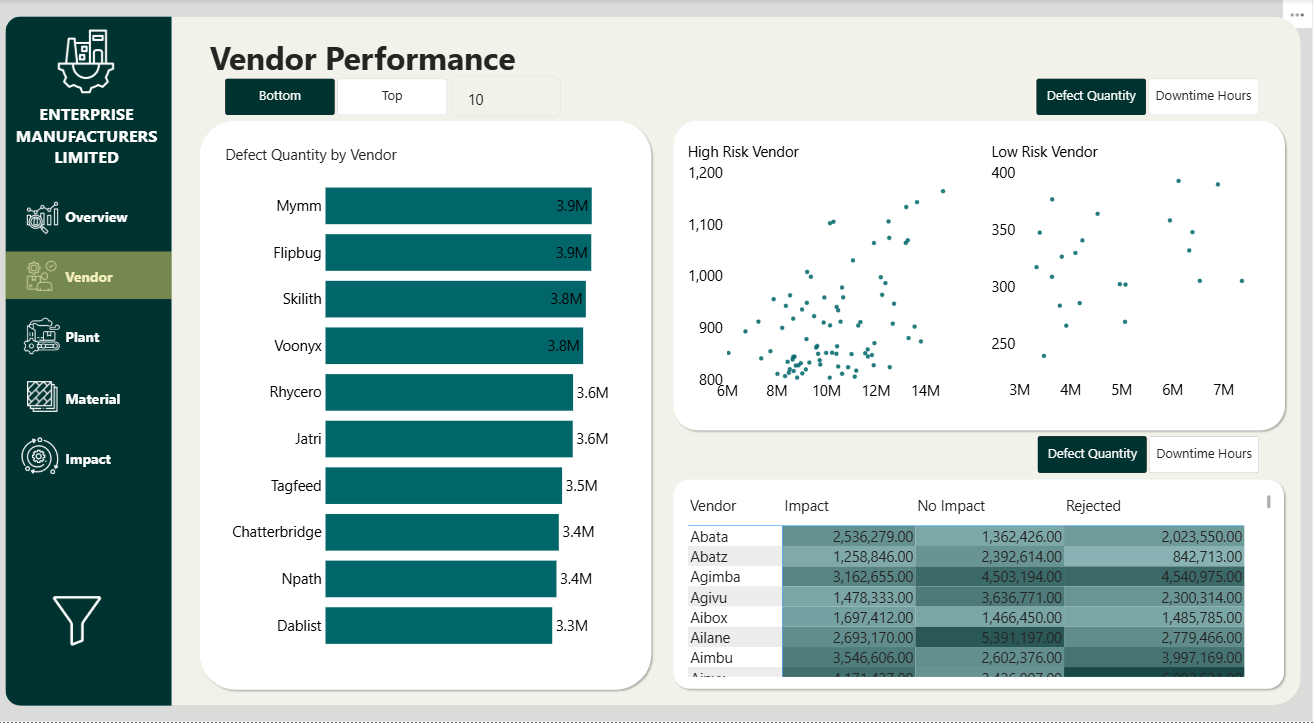

The dashboard page shown, as its layout file describes it:
{"tool":"powerbi","page":{"name":"Vendor","canvas":[3000,1650],"ordinal":2},"visuals":[{"type":"shape","box":[0,0,3000,1650.3],"z":0},{"type":"image","box":[54.2,456.1,94.1,85.5],"z":0,"group":"g1"},{"type":"textbox","box":[148.2,607.9,156.8,82.7],"z":0,"group":"g2"},{"type":"textbox","box":[148.2,745.5,156.8,82.7],"z":0,"group":"g3"},{"type":"textbox","box":[148.3,883,156.8,82.7],"z":0,"group":"g4"},{"type":"textbox","box":[148.3,1020.6,156.8,82.7],"z":0,"group":"g5"},{"type":"shape","box":[30.1,39.9,2939.9,1570.2],"z":1000},{"type":"textbox","box":[148.3,470.4,156.8,82.7],"z":1000,"group":"g1"},{"type":"image","box":[51.3,590.1,96.9,82.7],"z":1000,"group":"g2"},{"type":"image","box":[51.3,718.4,96.9,99.8],"z":1000,"group":"g3"},{"type":"image","box":[54.2,866.6,94.1,79.8],"z":1000,"group":"g4"},{"type":"image","box":[42.8,992.1,105.5,99.8],"z":1000,"group":"g5"},{"type":"shape","box":[16,39.9,379,1571.8],"z":2000},{"type":"image","box":[76.8,63.8,247.3,159.6],"z":3000},{"type":"textbox","box":[27.9,231.4,347.1,187.5],"z":4000},{"type":"textbox","box":[451,80.2,761.7,120.3],"z":5000},{"type":"shape","box":[451,267.3,1049,1316.3],"z":6000},{"type":"advancedSlicerVisual","fields":{"Values":["TopBottom.Value"]},"box":[514.5,177.1,517.8,93.5],"z":7000},{"type":"shape","box":[1530.1,267.3,1413.1,724.9],"z":8000},{"type":"shape","box":[1530.8,1086.1,1411.1,496],"z":9000},{"type":"image","box":[116.9,1356.9,128.3,122.6],"z":9500,"group":"g6"},{"type":"advancedSlicerVisual","fields":{"Values":["VendorParameter.VendorParameter"]},"box":[2361.9,177.1,517.8,93.5],"z":10000},{"type":"slicer","fields":{"Values":["Top N Parameter.Top N Parameter"]},"box":[1034.8,176.7,248,91.2],"z":11000},{"type":"clusteredBarChart","fields":{"Y":["_Rank.Rank Vendor by Defect Qty"],"Category":["Vendor.Vendor"]},"box":[514.5,330.7,898.7,1189.3],"z":12000},{"type":"scatterChart","title":"High Risk Vendor","fields":{"Category":["Vendor.Vendor"],"X":["Defect Quantity.Total Defect Qty"],"Y":["DownTime.Total Downtime Hours"]},"box":[1567.9,325,641.4,601.5],"z":13000},{"type":"scatterChart","title":"Low Risk Vendor","fields":{"Category":["Vendor.Vendor"],"X":["Defect Quantity.Total Defect Qty"],"Y":["DownTime.Total Downtime Hours"]},"box":[2260.6,325,621.5,598.7],"z":14000},{"type":"pivotTable","fields":{"Values":["Defect Quantity.Total Defect Qty"],"Rows":["Supplier Quality.Vendor"],"Columns":["Defect Type.Defect Type"]},"box":[1567.9,1126,1339.8,424.8],"z":15000},{"type":"advancedSlicerVisual","fields":{"Values":["Overview .Overview "]},"box":[2366.1,992.1,516,94.1],"z":16000},{"type":"group","id":"g1","title":"Group 2","box":[54.2,456.1,250.9,96.9],"z":17000},{"type":"group","id":"g2","title":"Group 3","box":[51.3,590.1,253.7,100.5],"z":18000},{"type":"group","id":"g3","title":"Group 4","box":[51.3,718.4,253.7,109.8],"z":19000},{"type":"group","id":"g4","title":"Group 5","box":[54.2,866.6,250.9,99.1],"z":20000},{"type":"group","id":"g5","title":"Group 6","box":[42.8,992.1,262.3,111.2],"z":21000},{"type":"shape","box":[16.9,576.1,379.6,108.5],"z":22000},{"type":"shape","box":[16.9,718.5,379.6,108.5],"z":23000},{"type":"shape","box":[16.9,850.7,379.6,108.5],"z":24000},{"type":"shape","box":[16.9,999.8,379.6,108.5],"z":25000},{"type":"shape","box":[16.9,444,379.6,108.5],"z":26000},{"type":"group","id":"g6","title":"Vendor Filter","box":[116.9,442.2,716.8,1037.3],"z":27500}]}

Visuals, with their boxes on the page's 3000x1650 design canvas (x1, y1, x2, y2). These are canvas units, not pixel positions in the 1313x723 screenshot, which may show the page scaled, cropped or inside an application window:
shape: Rect(0, 0, 3000, 1650)
image: Rect(54, 456, 148, 542)
textbox: Rect(148, 608, 305, 691)
textbox: Rect(148, 746, 305, 828)
textbox: Rect(148, 883, 305, 966)
textbox: Rect(148, 1021, 305, 1103)
shape: Rect(30, 40, 2970, 1610)
textbox: Rect(148, 470, 305, 553)
image: Rect(51, 590, 148, 673)
image: Rect(51, 718, 148, 818)
image: Rect(54, 867, 148, 946)
image: Rect(43, 992, 148, 1092)
shape: Rect(16, 40, 395, 1612)
image: Rect(77, 64, 324, 223)
textbox: Rect(28, 231, 375, 419)
textbox: Rect(451, 80, 1213, 200)
shape: Rect(451, 267, 1500, 1584)
advancedSlicerVisual - TopBottom.Value: Rect(514, 177, 1032, 271)
shape: Rect(1530, 267, 2943, 992)
shape: Rect(1531, 1086, 2942, 1582)
image: Rect(117, 1357, 245, 1480)
advancedSlicerVisual - VendorParameter.VendorParameter: Rect(2362, 177, 2880, 271)
slicer - Top N Parameter.Top N Parameter: Rect(1035, 177, 1283, 268)
clusteredBarChart - _Rank.Rank Vendor by Defect Qty x Vendor.Vendor: Rect(514, 331, 1413, 1520)
"High Risk Vendor" scatterChart: Rect(1568, 325, 2209, 926)
"Low Risk Vendor" scatterChart: Rect(2261, 325, 2882, 924)
pivotTable - Defect Quantity.Total Defect Qty x Supplier Quality.Vendor: Rect(1568, 1126, 2908, 1551)
advancedSlicerVisual - Overview .Overview : Rect(2366, 992, 2882, 1086)
"Group 2" group: Rect(54, 456, 305, 553)
"Group 3" group: Rect(51, 590, 305, 691)
"Group 4" group: Rect(51, 718, 305, 828)
"Group 5" group: Rect(54, 867, 305, 966)
"Group 6" group: Rect(43, 992, 305, 1103)
shape: Rect(17, 576, 396, 685)
shape: Rect(17, 718, 396, 827)
shape: Rect(17, 851, 396, 959)
shape: Rect(17, 1000, 396, 1108)
shape: Rect(17, 444, 396, 552)
"Vendor Filter" group: Rect(117, 442, 834, 1480)
